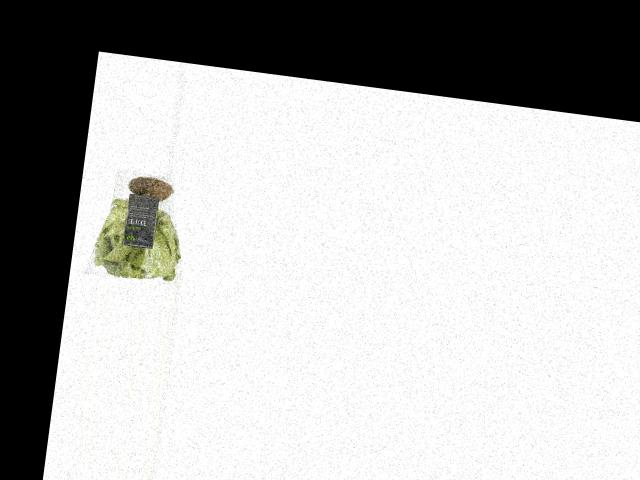lettuce: (87, 164, 194, 286)
